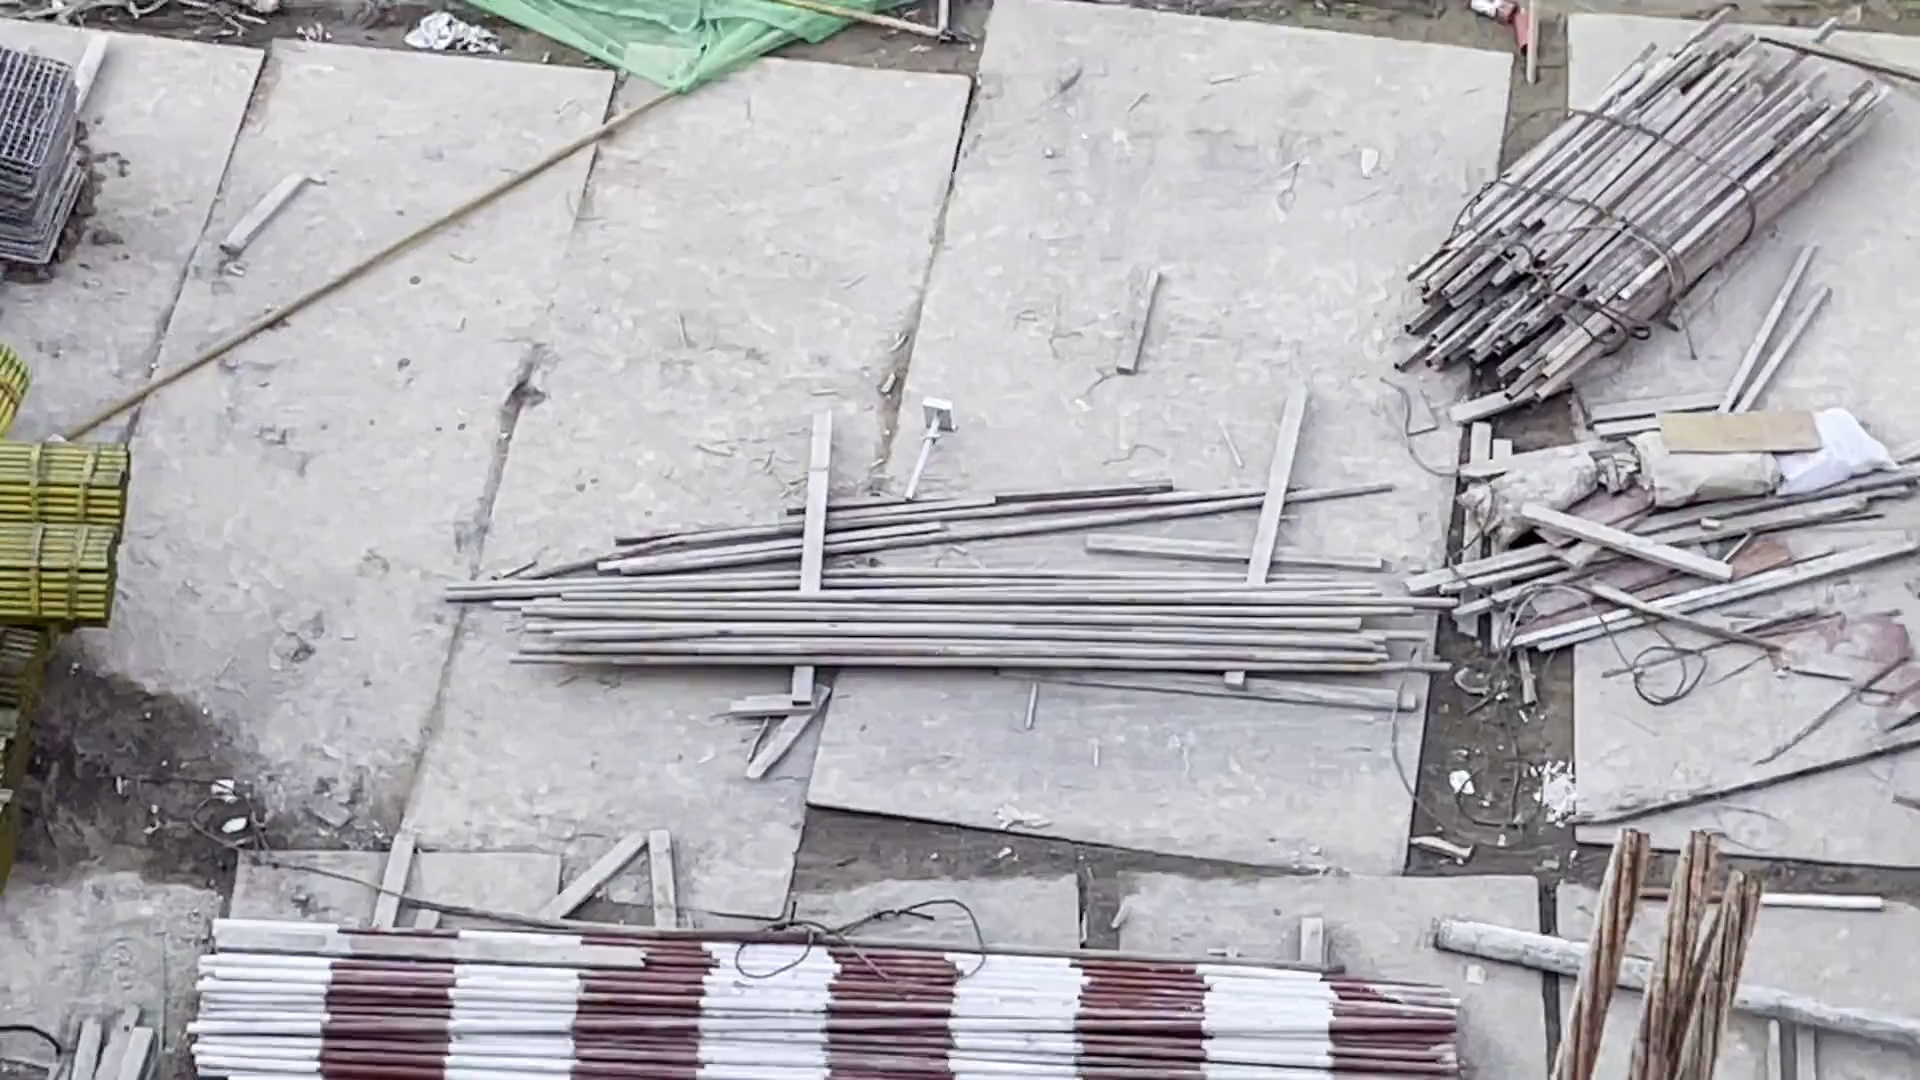wood: (1404, 33, 1887, 419)
